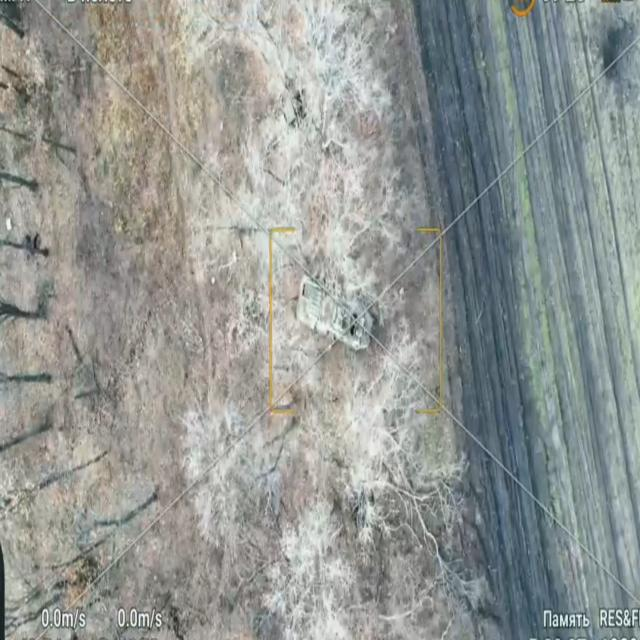apc: (295, 276, 373, 352)
cars: (258, 89, 306, 152)
